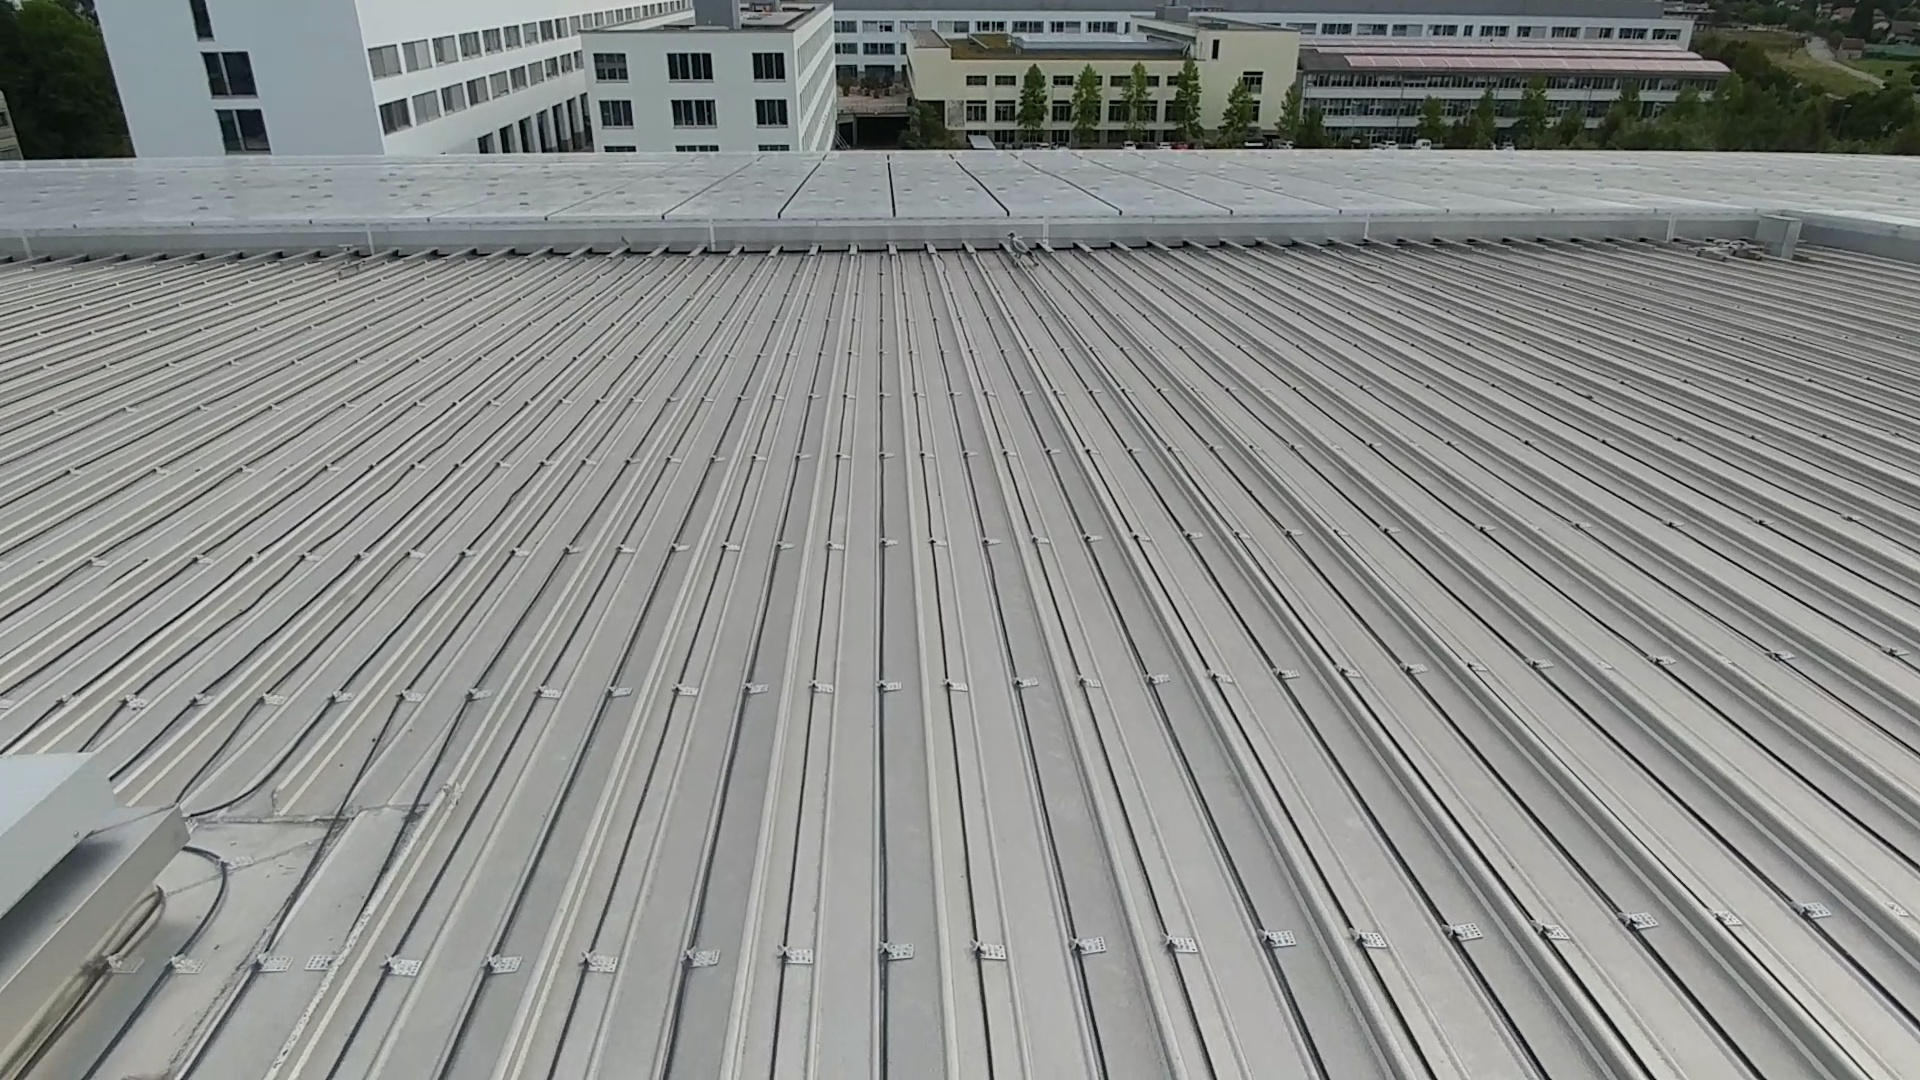Pigeon: (1001, 231, 1043, 268)
